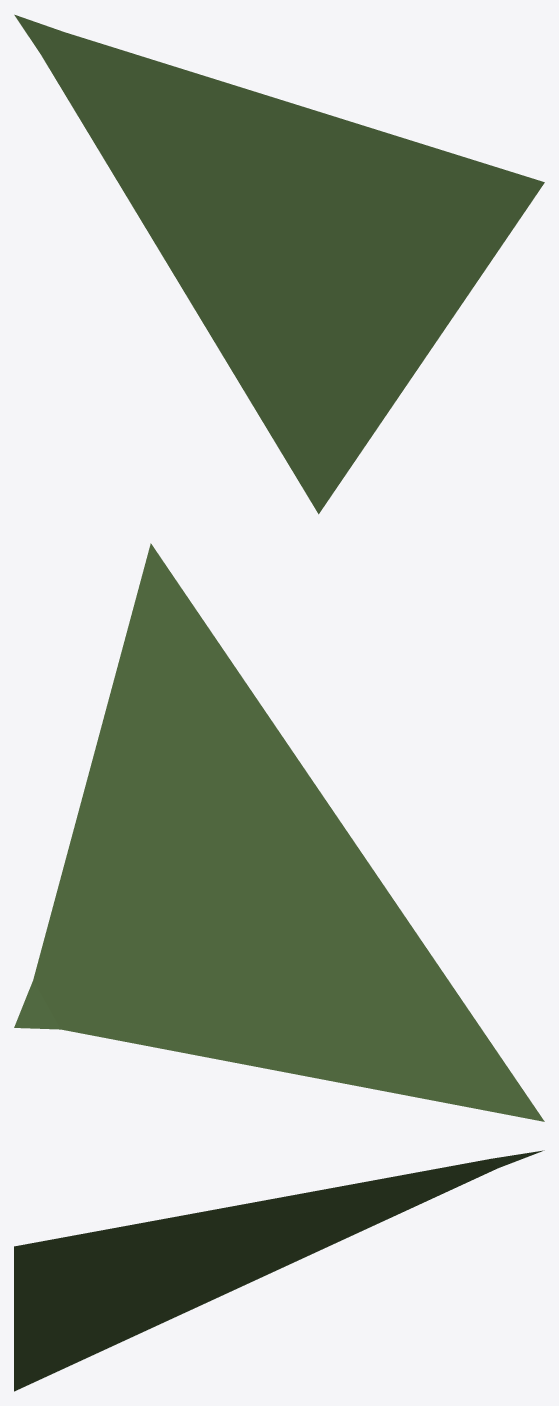
3 renders of one model, top to bottom at view 1: azimuth 30°, elevation 25°; view 2: azimuth 150°, elevation 25°; view 3: azimuth 270°, elevation 25°, orthographic. The views are drawn at different scales.
Size of the model in its own units: 0.1552 by 0.1816 by 0.3621.
1 material, 1 textured.
